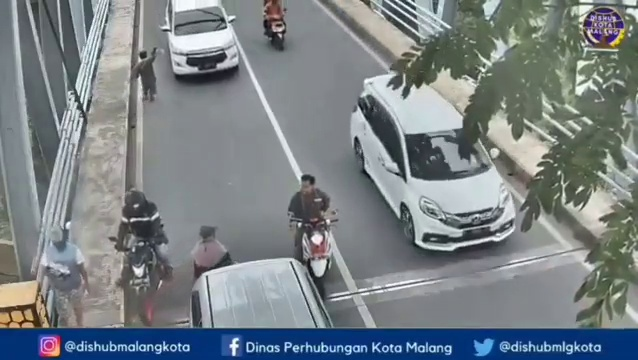car: (349, 73, 514, 253), (164, 2, 242, 83)
motorbike: (113, 183, 173, 325), (293, 168, 338, 294), (259, 3, 290, 49)
